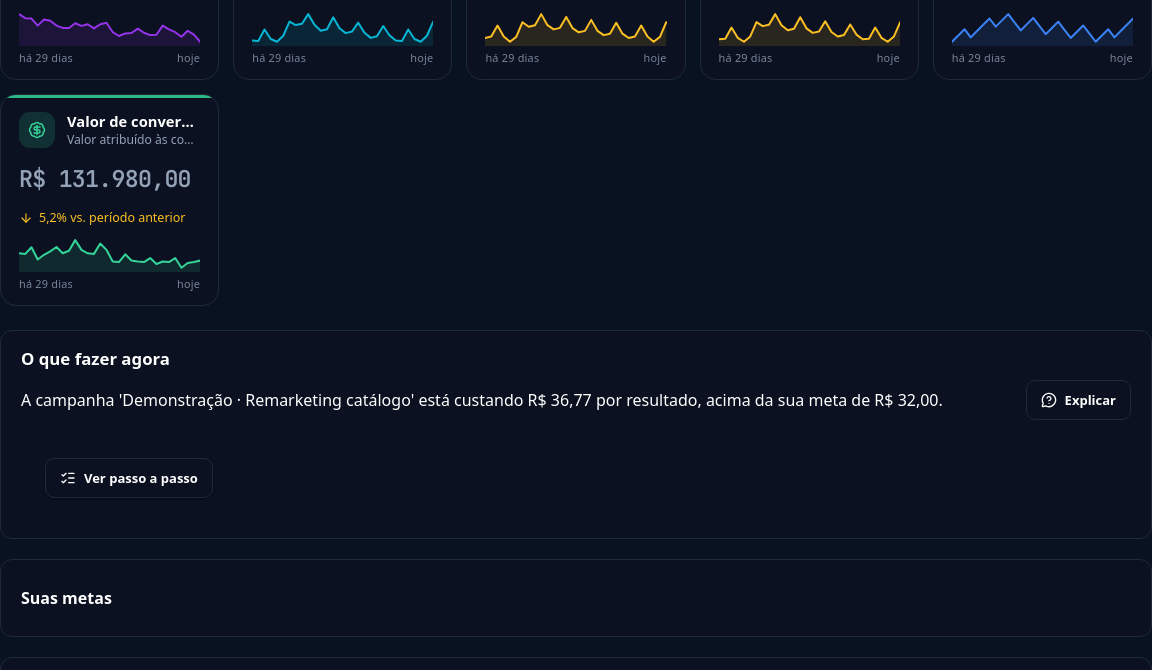
Test: walks the whole story in the demo: why it changed, the action over the goal, the plan and its follow-up
(page scrolled)
Click the button "Ver passo a passo": [129, 478] box [45,458,213,498]
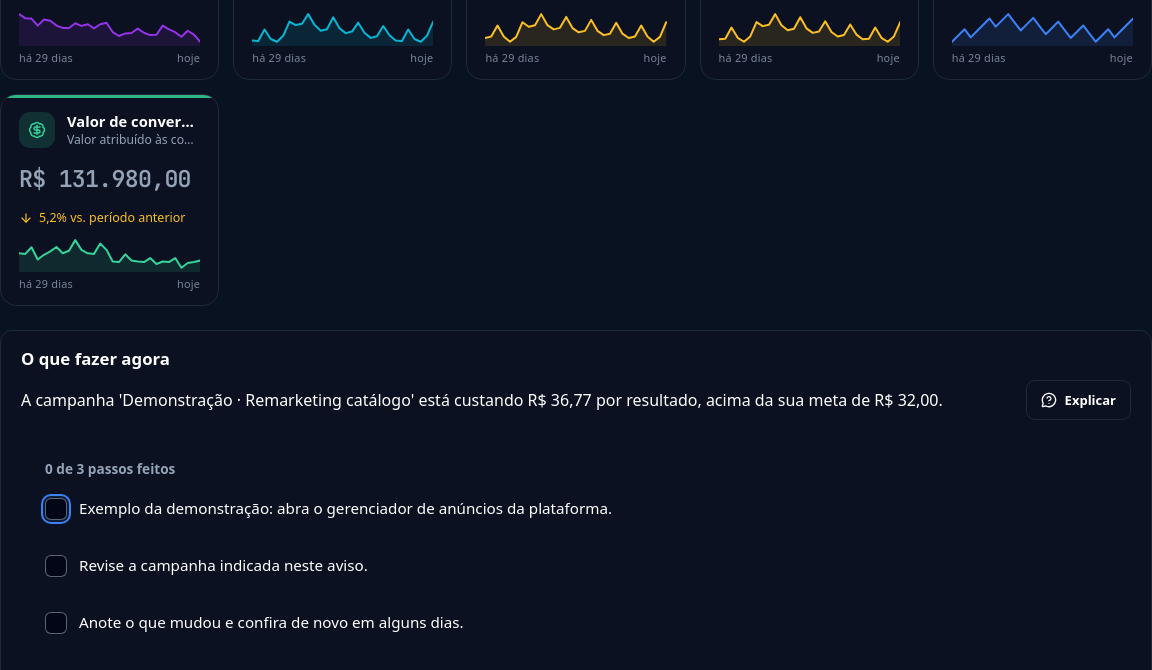
Click the 1st checkbox: [56, 509] box [45,498,67,520]
(page scrolled)
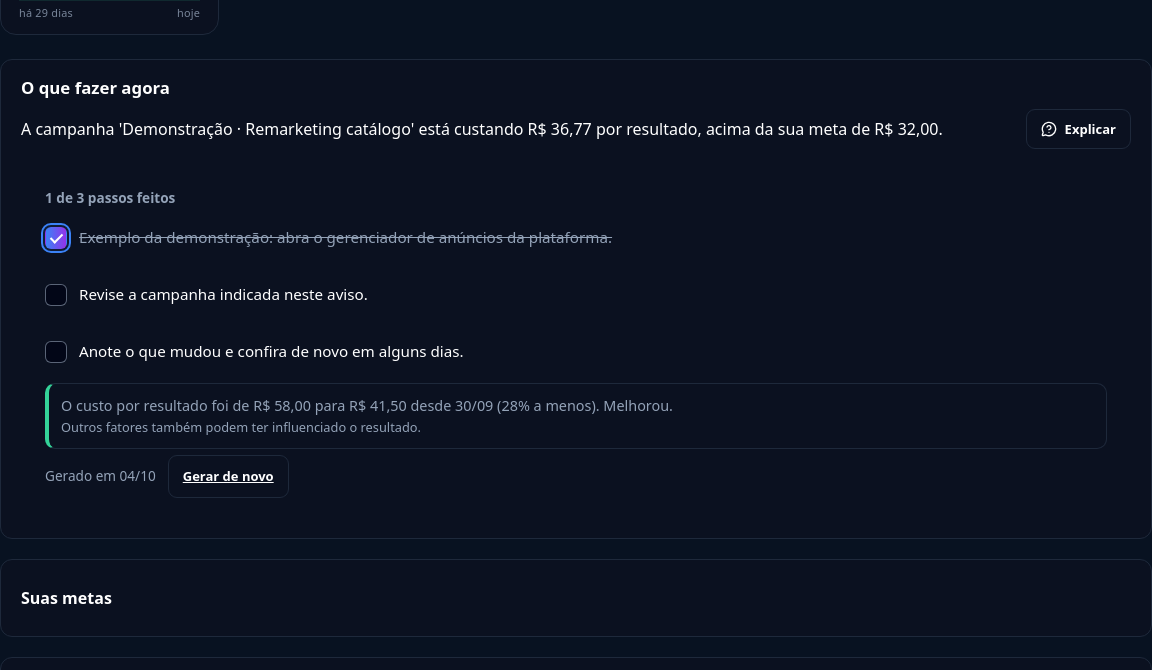
Expected: the text "Outros fatores também podem ter influenciado o resultado." is shown, [61,418,421,436]
